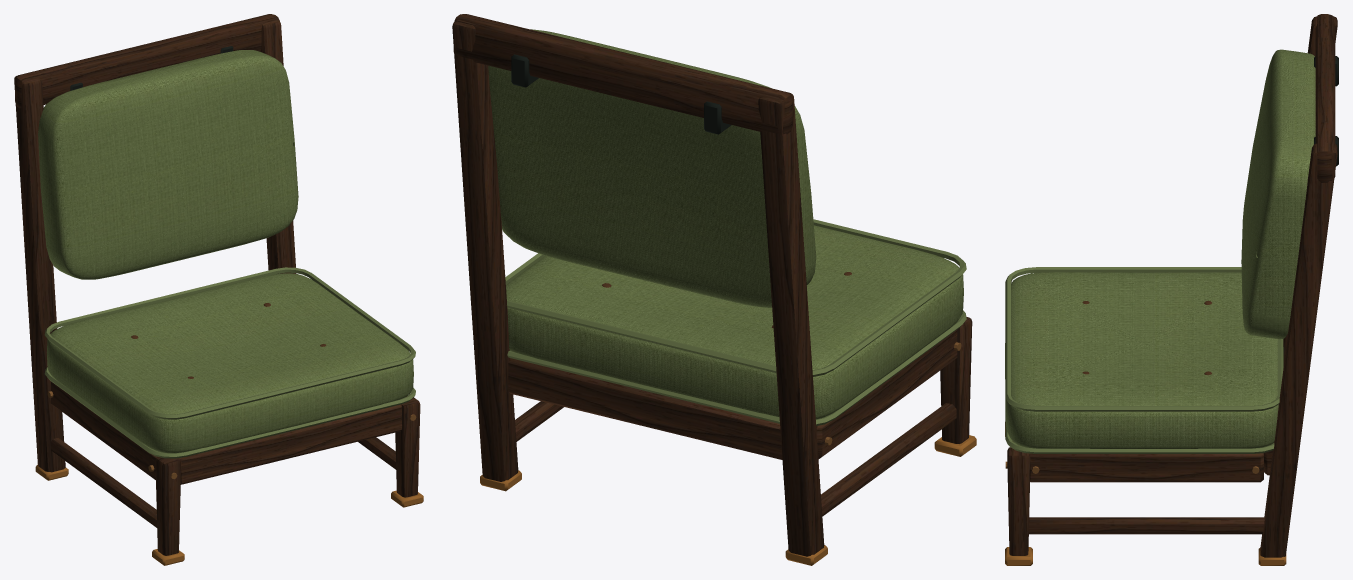
File: arrival-chair.lod0.glb
The picture shows the model from 3 angles, left to right: view 1: azimuth 30°, elevation 25°; view 2: azimuth 150°, elevation 25°; view 3: azimuth 270°, elevation 25°; orthographic projection. The views are drawn at different scales.
Visible parts, largest first — view 1: arrival_chair_Fabric • moss weave, arrival_chair_Timber • oiled walnut, arrival_chair_Trim • brass and bronze; view 2: arrival_chair_Fabric • moss weave, arrival_chair_Timber • oiled walnut, arrival_chair_Trim • brass and bronze; view 3: arrival_chair_Fabric • moss weave, arrival_chair_Timber • oiled walnut, arrival_chair_Trim • brass and bronze.
Part boxes in pixels (<box>): arrival_chair_Fabric • moss weave: <box>38,50,415,458</box>; arrival_chair_Timber • oiled walnut: <box>14,14,420,555</box>; arrival_chair_Trim • brass and bronze: <box>35,46,423,565</box>; arrival_chair_Fabric • moss weave: <box>488,29,966,425</box>; arrival_chair_Timber • oiled walnut: <box>452,14,972,556</box>; arrival_chair_Trim • brass and bronze: <box>480,54,976,565</box>; arrival_chair_Fabric • moss weave: <box>1005,49,1315,453</box>; arrival_chair_Timber • oiled walnut: <box>1007,14,1337,557</box>; arrival_chair_Trim • brass and bronze: <box>1005,56,1338,565</box>.
Bounding box in the file's own units: 0.6 × 0.825 × 0.5994.
Materials: 3 (3 with a texture image).
